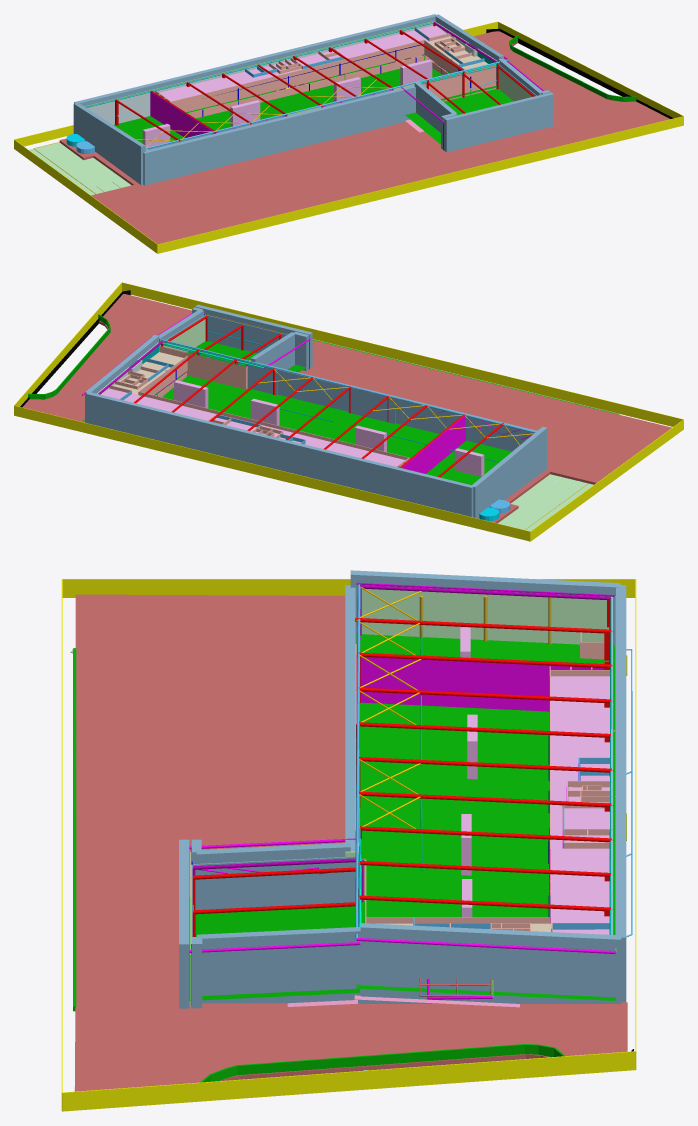
File: warehouse.glb
3 views of the same model, one above another, from view 1: azimuth 30°, elevation 25°; view 2: azimuth 150°, elevation 25°; view 3: azimuth 270°, elevation 25° (orthographic). The views are drawn at different scales.
Visible parts, largest first — view 1: Excavation (×2), Scaffold (×7), Site Security Fence (×4), Roof Trapezoidal 5 Rib (×2), Plasterboard Standard 10mm (×2), Ground Water Recharge Pit, Mobile Scaffold (×4), Ceiling 130mm Suspension (×2), 150x75 BMT Wall, Plasterboard Standard, WL01, WL04 (+7 smaller); view 2: Scaffold (×8), Excavation (×2), Site Security Fence (×4), Roof Trapezoidal 5 Rib (×2), Longrun Trapezoidal (×2), Mobile Scaffold (×4), Ground Water Recharge Pit, Ceiling 130mm Suspension (×2), WL04, Plasterboard Standard, Wall Int, Notched Flashing (+4 smaller); view 3: Excavation (×2), Scaffold (×7), Roof Trapezoidal 5 Rib (×2), Site Security Fence (×4), Ceiling 130mm Suspension (×3), Portal 610UB101 (×9), Steel DHS 250x1.8mm 1300CRS, WL04, Wall Masonry, Longrun Trapezoidal, Infiltration Trench, Notched Flashing (+4 smaller).
Boxes of the visible parts, <box> form: Excavation (×2): <box>59,31,670,244</box>; Scaffold (×7): <box>73,14,553,185</box>; Site Security Fence (×4): <box>14,21,683,253</box>; Roof Trapezoidal 5 Rib (×2): <box>113,63,513,145</box>; Plasterboard Standard 10mm (×2): <box>170,40,464,112</box>; Ground Water Recharge Pit: <box>29,142,131,195</box>; Mobile Scaffold (×4): <box>142,59,432,147</box>; Ceiling 130mm Suspension (×2): <box>159,30,428,101</box>; 150x75 BMT Wall: <box>87,22,433,124</box>; Plasterboard Standard: <box>188,55,429,118</box>; WL01: <box>421,65,496,101</box>; WL04: <box>150,91,214,137</box>; Scaffold (×8): <box>85,304,547,518</box>; Excavation (×2): <box>20,294,671,523</box>; Site Security Fence (×4): <box>14,282,683,541</box>; Roof Trapezoidal 5 Rib (×2): <box>83,341,511,485</box>; Longrun Trapezoidal (×2): <box>205,315,534,440</box>; Mobile Scaffold (×4): <box>174,380,484,476</box>; Ground Water Recharge Pit: <box>498,474,593,531</box>; Ceiling 130mm Suspension (×2): <box>124,393,404,466</box>; WL04: <box>401,415,465,473</box>; Plasterboard Standard: <box>186,353,245,389</box>; Wall Int: <box>138,391,410,459</box>; Notched Flashing: <box>161,339,535,432</box>; Excavation (×2): <box>74,594,627,1091</box>; Scaffold (×7): <box>179,570,626,1008</box>; Roof Trapezoidal 5 Rib (×2): <box>189,633,615,1000</box>; Site Security Fence (×4): <box>61,579,636,1111</box>; Ceiling 130mm Suspension (×3): <box>550,676,609,928</box>; Portal 610UB101 (×9): <box>355,618,611,911</box>; Steel DHS 250x1.8mm 1300CRS: <box>361,589,612,644</box>; WL04: <box>360,657,612,711</box>; Wall Masonry: <box>237,1044,524,1075</box>; Longrun Trapezoidal: <box>193,857,355,910</box>; Infiltration Trench: <box>73,648,76,1011</box>; Notched Flashing: <box>355,584,360,940</box>.
Bounding box in the file's own units: 118 × 8.88 × 55.96.
